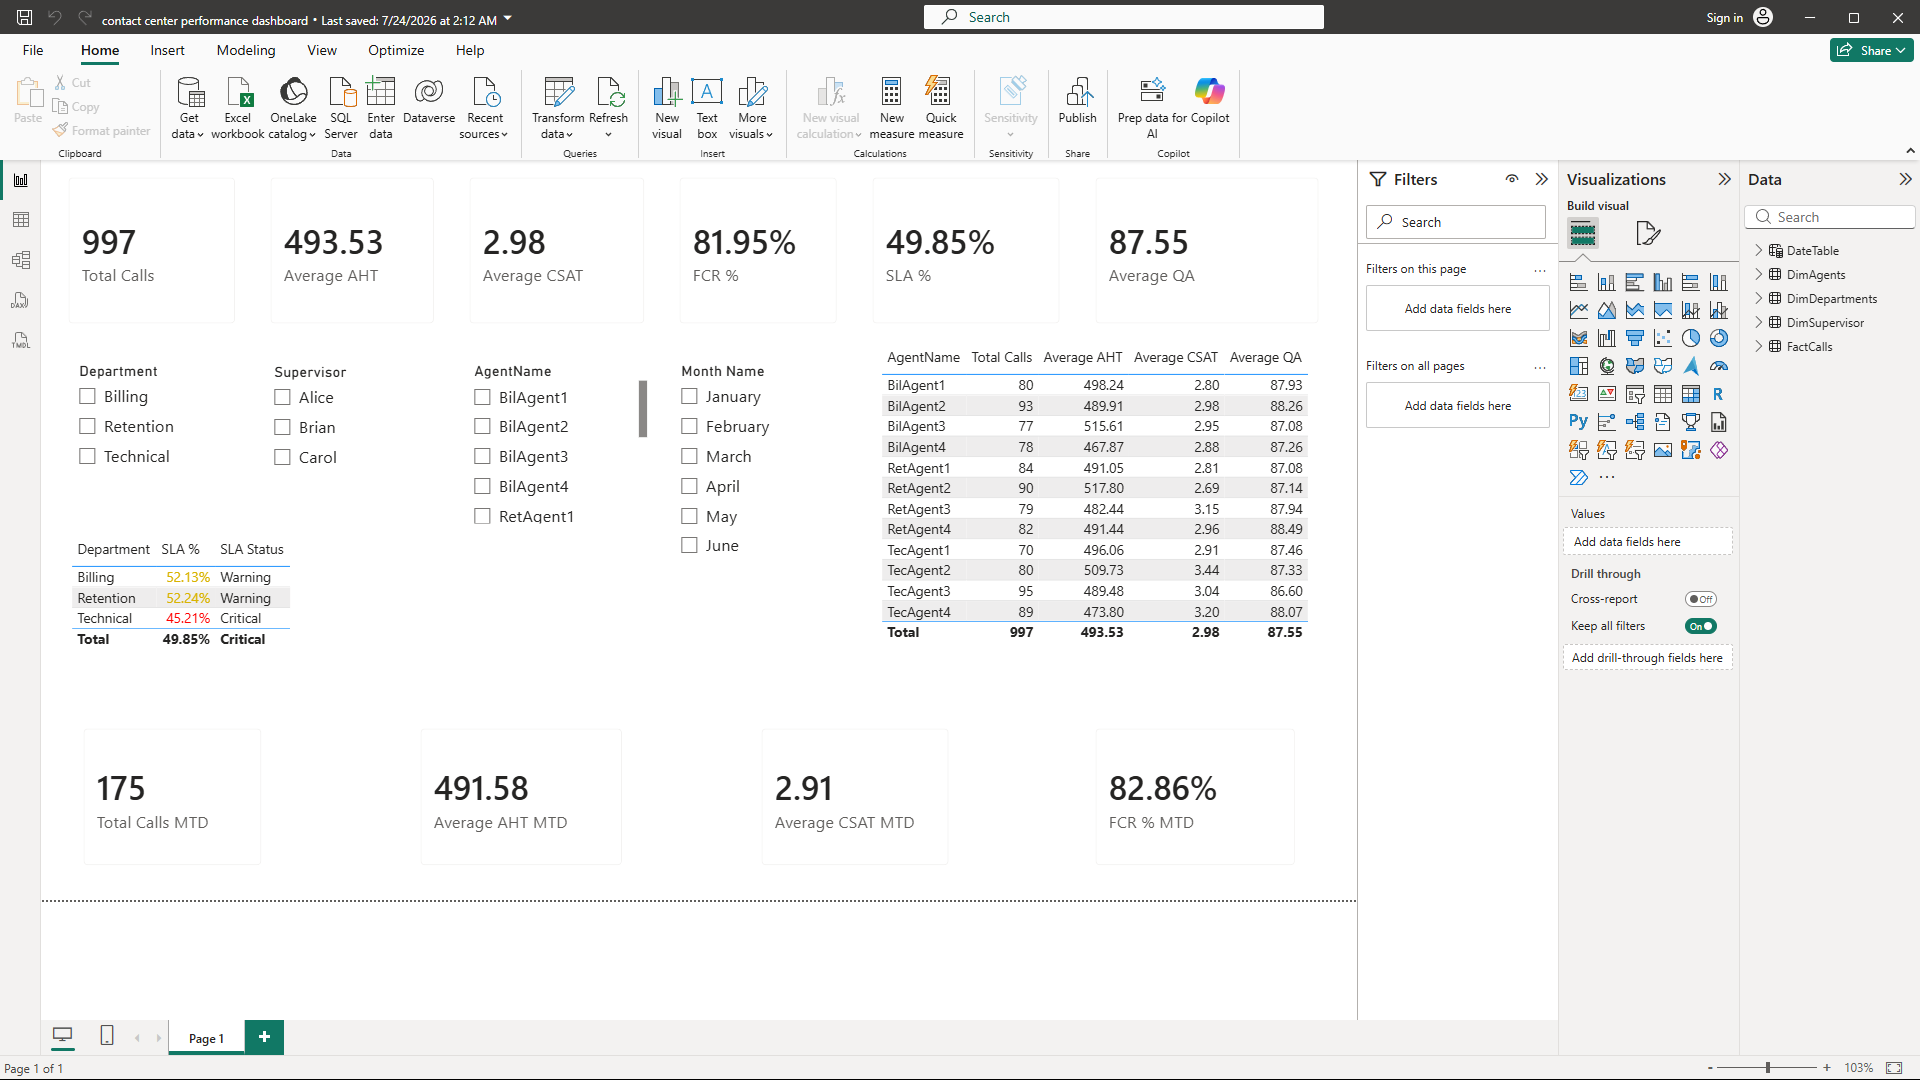

The dashboard page shown, as its layout file describes it:
{"tool":"powerbi","page":{"name":"Page 1","canvas":[1280,720],"ordinal":0},"visuals":[{"type":"cardVisual","fields":{"Data":["FactCalls.TotalCalls"]},"box":[9.7,0,196.5,176],"z":0},{"type":"cardVisual","fields":{"Data":["FactCalls.AverageAHT"]},"box":[206.2,0,193.6,176],"z":1000},{"type":"cardVisual","fields":{"Data":["FactCalls.AverageCSAT"]},"box":[399.8,0,204.3,176],"z":2000},{"type":"cardVisual","fields":{"Data":["FactCalls.SLA%"]},"box":[604,0,187.7,176],"z":3000},{"type":"cardVisual","fields":{"Data":["FactCalls.SLA %"]},"box":[791.7,0,216.9,176],"z":4000},{"type":"cardVisual","fields":{"Data":["FactCalls.Average QA"]},"box":[1008.6,0,251.9,176],"z":5000},{"type":"slicer","fields":{"Values":["DimDepartments.Department"]},"box":[24.3,191.6,166.3,168.3],"z":6000},{"type":"slicer","fields":{"Values":["DimSupervisor.Supervisor"]},"box":[214,192.6,185.8,167.3],"z":7000},{"type":"slicer","fields":{"Values":["DimAgents.AgentName"]},"box":[408.5,191.6,185.8,167.3],"z":8000},{"type":"tableEx","fields":{"Values":["DimAgents.AgentName","FactCalls.Total Calls","FactCalls.Average AHT","FactCalls.Average CSAT","FactCalls.Average QA"]},"box":[812.2,176,433.8,304.4],"z":9000},{"type":"slicer","fields":{"Values":["DateTable.Month Name"]},"box":[609.8,191.6,181.9,202.3],"z":10000},{"type":"cardVisual","fields":{"Data":["FactCalls.Average AHT MTD"]},"box":[352.1,535.9,230.5,167.3],"z":11000},{"type":"cardVisual","fields":{"Data":["FactCalls.Average CSAT MTD"]},"box":[683.8,535.9,216.9,167.3],"z":12000},{"type":"cardVisual","fields":{"Data":["FactCalls.FCR % MTD"]},"box":[1008.6,535.9,228.6,167.3],"z":13000},{"type":"cardVisual","fields":{"Data":["FactCalls.Total Calls MTD"]},"box":[24.3,535.9,207.2,167.3],"z":14000},{"type":"tableEx","fields":{"Values":["DimDepartments.Department","FactCalls.SLA %","FactCalls.SLA Status"]},"box":[24.3,362.8,223.7,137.1],"z":15000}]}

Visuals, with their boxes on the page's 1280x720 design canvas (x1, y1, x2, y2). These are canvas units, not pixel positions in the 1920x1080 screenshot, which may show the page scaled, cropped or inside an application window:
cardVisual - FactCalls.TotalCalls: 10, 0, 206, 176
cardVisual - FactCalls.AverageAHT: 206, 0, 400, 176
cardVisual - FactCalls.AverageCSAT: 400, 0, 604, 176
cardVisual - FactCalls.SLA%: 604, 0, 792, 176
cardVisual - FactCalls.SLA %: 792, 0, 1009, 176
cardVisual - FactCalls.Average QA: 1009, 0, 1260, 176
slicer - DimDepartments.Department: 24, 192, 191, 360
slicer - DimSupervisor.Supervisor: 214, 193, 400, 360
slicer - DimAgents.AgentName: 408, 192, 594, 359
tableEx - DimAgents.AgentName x FactCalls.Total Calls: 812, 176, 1246, 480
slicer - DateTable.Month Name: 610, 192, 792, 394
cardVisual - FactCalls.Average AHT MTD: 352, 536, 583, 703
cardVisual - FactCalls.Average CSAT MTD: 684, 536, 901, 703
cardVisual - FactCalls.FCR % MTD: 1009, 536, 1237, 703
cardVisual - FactCalls.Total Calls MTD: 24, 536, 232, 703
tableEx - DimDepartments.Department x FactCalls.SLA %: 24, 363, 248, 500
